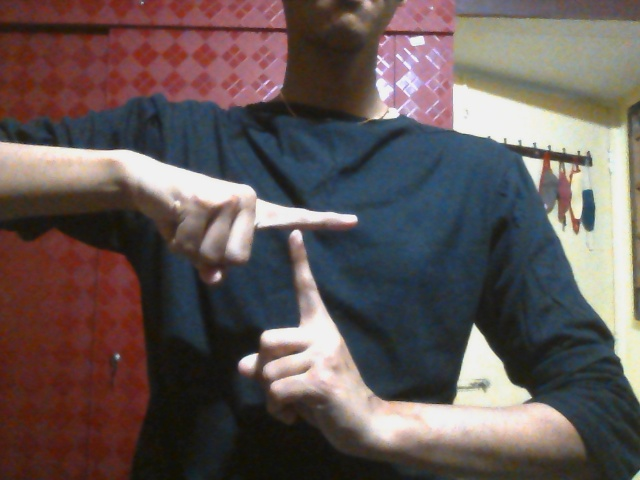T: (142, 153, 361, 457)
